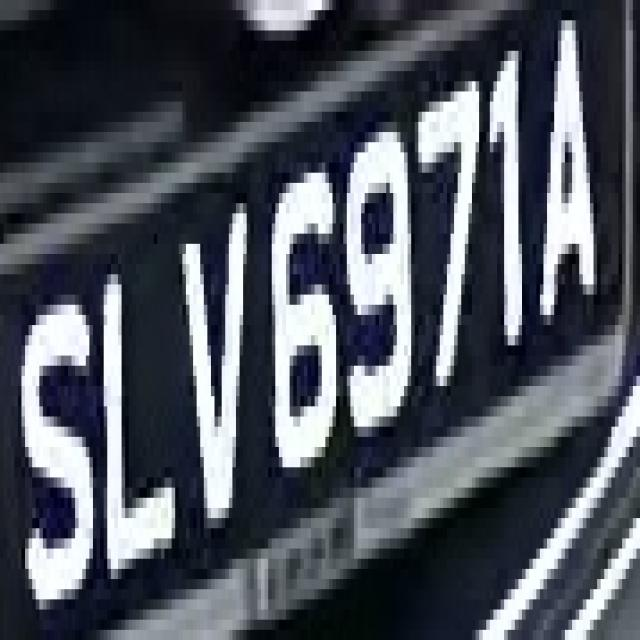1: (497, 10, 526, 396)
6: (268, 152, 340, 488)
7: (408, 61, 486, 406)
9: (336, 101, 415, 436)
A: (521, 0, 611, 345)
L: (93, 264, 182, 599)
S: (15, 274, 96, 600)
V: (172, 203, 254, 559)
